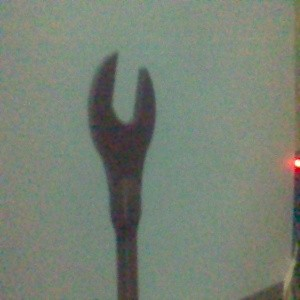spanner: (86, 49, 157, 300)
